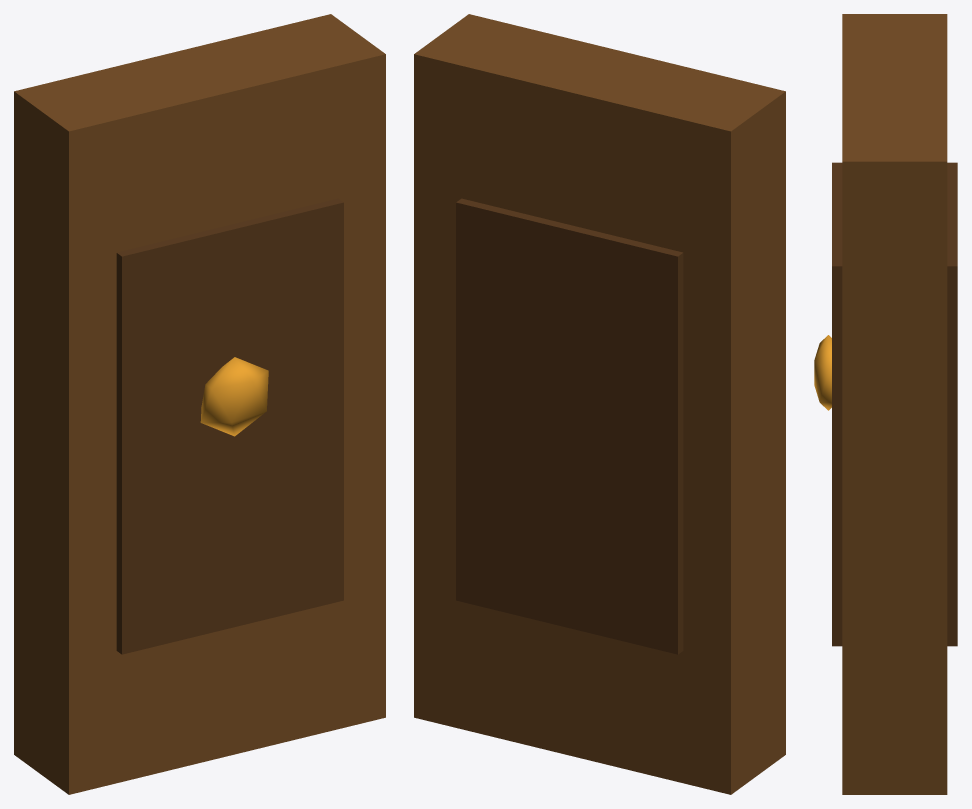
File: lihzahrd_door_v0.glb
3 renders of one model, left to right at view 1: azimuth 30°, elevation 25°; view 2: azimuth 150°, elevation 25°; view 3: azimuth 270°, elevation 25°, orthographic. The views are drawn at different scales.
Parts seen in each view (by area): view 1: lihzahrd_door_v0; view 2: lihzahrd_door_v0; view 3: lihzahrd_door_v0.
Boxes of the visible parts, bbox=[...] form: lihzahrd_door_v0: bbox=[14, 14, 385, 794]; lihzahrd_door_v0: bbox=[414, 14, 785, 794]; lihzahrd_door_v0: bbox=[814, 14, 957, 794].
Size of the model in its own units: 1 by 2 by 0.4108.
